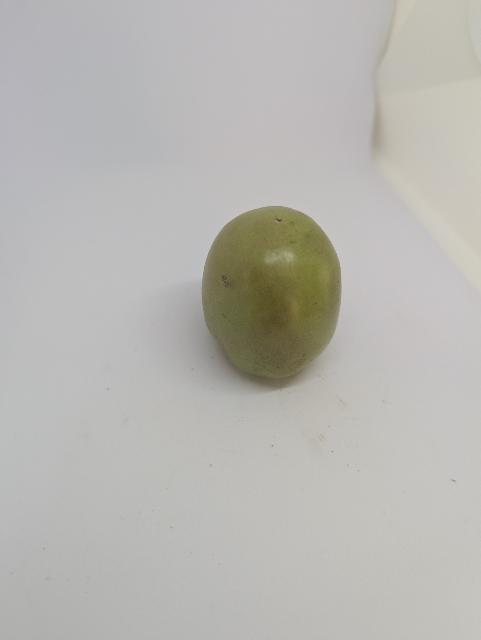green: (186, 197, 355, 395)
